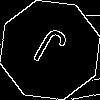J: (25, 25, 70, 78)
